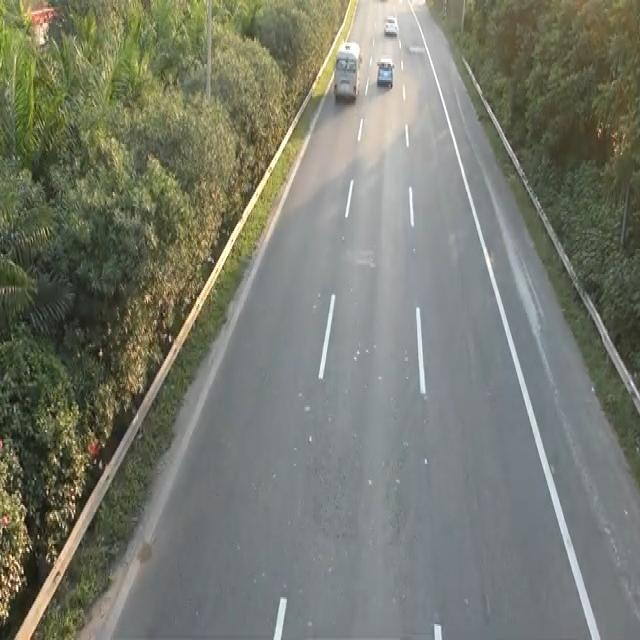bus: (375, 53, 395, 87), (383, 12, 399, 36)
jeep: (332, 41, 360, 103)
